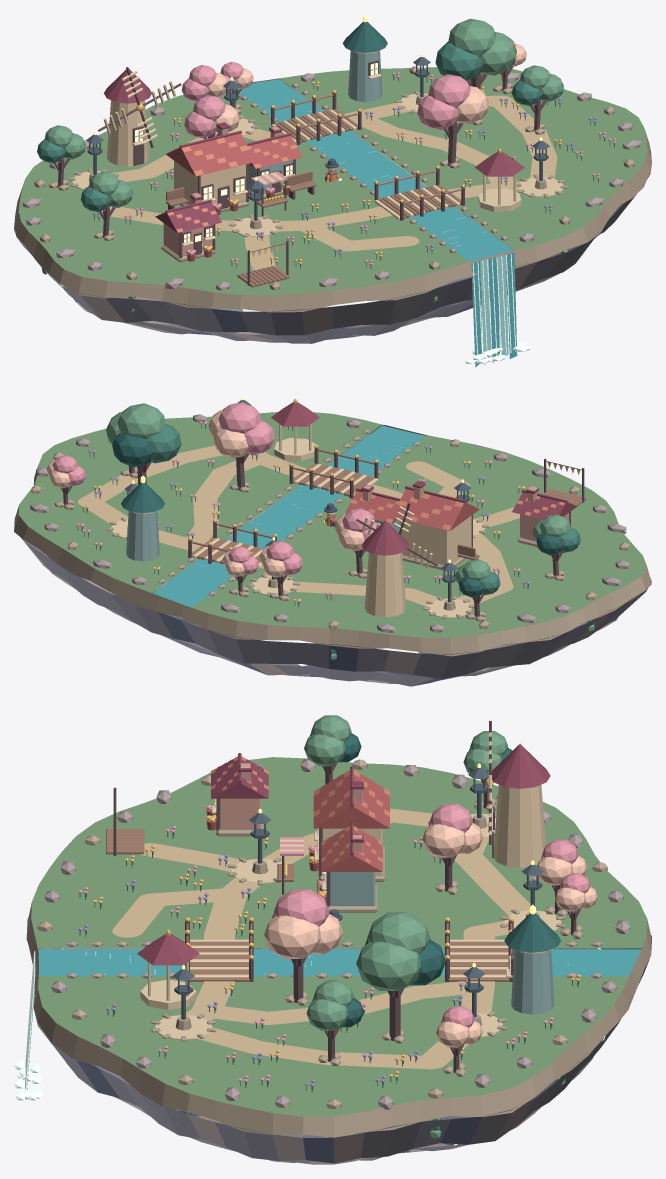
The model's file is lantern-vale.glb.
3 renders of one model, top to bottom at view 1: azimuth 30°, elevation 25°; view 2: azimuth 150°, elevation 25°; view 3: azimuth 270°, elevation 25°, orthographic. The views are drawn at different scales.
Parts seen in each view (by area): view 1: Static_Grass, Static_Earth, Static_Cliff, Static_Water, Static_Path, Static_LeafLight, Static_CliffLight, Static_Timber, Static_Blossom, Static_TimberLight, Static_Leaf, Static_RoofDark (+17 smaller); view 2: Static_Grass, Static_Earth, Static_Cliff, Static_Path, Static_Water, Static_Plaster, Static_CliffLight, Static_Blossom, Static_RoofDark, Static_LeafLight, Static_BlossomLight, Static_LeafDark (+13 smaller); view 3: Static_Grass, Static_Earth, Static_Path, Static_LeafLight, Static_Cliff, Static_Water, Static_BlossomLight, Static_CliffLight, Static_Roof, Static_RoofDark, Static_TimberLight, Static_Plaster (+14 smaller).
Part boxes in pixels (left/top/right/bottom): Static_Grass: left=18, top=67, right=647, bottom=295; Static_Earth: left=14, top=66, right=651, bottom=312; Static_Cliff: left=14, top=90, right=651, bottom=343; Static_Water: left=234, top=79, right=517, bottom=367; Static_Path: left=102, top=95, right=557, bottom=270; Static_LeafLight: left=42, top=18, right=567, bottom=312; Static_CliffLight: left=22, top=72, right=651, bottom=340; Static_Timber: left=54, top=60, right=546, bottom=285; Static_Blossom: left=181, top=40, right=515, bottom=138; Static_TimberLight: left=166, top=94, right=462, bottom=287; Static_Leaf: left=37, top=43, right=614, bottom=299; Static_RoofDark: left=104, top=68, right=524, bottom=233; Static_Grass: left=18, top=412, right=646, bottom=637; Static_Earth: left=14, top=424, right=651, bottom=656; Static_Cliff: left=14, top=439, right=650, bottom=686; Static_Path: left=78, top=445, right=519, bottom=606; Static_Water: left=153, top=425, right=425, bottom=607; Static_Plaster: left=364, top=515, right=471, bottom=617; Static_CliffLight: left=20, top=414, right=651, bottom=683; Static_Blossom: left=53, top=402, right=380, bottom=575; Static_RoofDark: left=271, top=402, right=576, bottom=555; Static_LeafLight: left=69, top=403, right=594, bottom=660; Static_BlossomLight: left=47, top=409, right=364, bottom=577; Static_LeafDark: left=112, top=433, right=561, bottom=597; Static_Grass: left=31, top=757, right=647, bottom=1116; Static_Earth: left=26, top=759, right=651, bottom=1137; Static_Path: left=112, top=808, right=536, bottom=1069; Static_LeafLight: left=40, top=715, right=565, bottom=1139; Static_Cliff: left=26, top=917, right=651, bottom=1164; Static_Water: left=27, top=949, right=641, bottom=1089; Static_BlossomLight: left=264, top=822, right=597, bottom=1047; Static_CliffLight: left=33, top=758, right=630, bottom=1164; Static_Roof: left=206, top=774, right=389, bottom=902; Static_RoofDark: left=137, top=744, right=550, bottom=965; Static_TimberLight: left=106, top=829, right=512, bottom=981; Static_Plaster: left=321, top=785, right=545, bottom=875.
Bounding box in the file's own units: 33.92 × 11.86 × 25.04.
